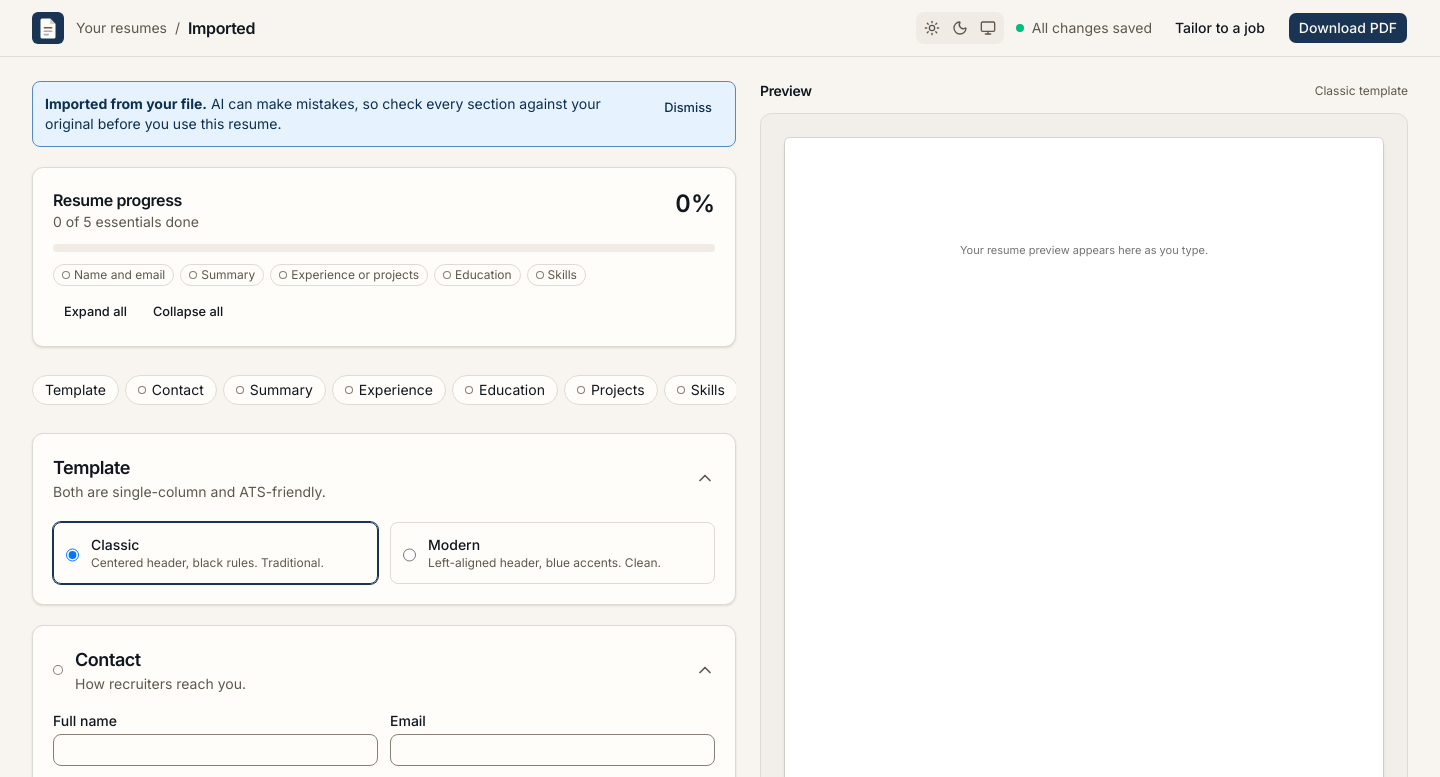
it: editor import notice › tells the user to check an imported resume, and can be dismissed
This screenshot has width=1440, height=777.
Expected: the message with test id "import-notice" shows "Imported from your file", [45, 95, 207, 112]
Expected: the message with test id "import-notice" shows "check every section", [45, 95, 601, 132]
Click the button with aria-label "Dismiss import notice".
click(688, 108)  # box [653, 94, 723, 122]
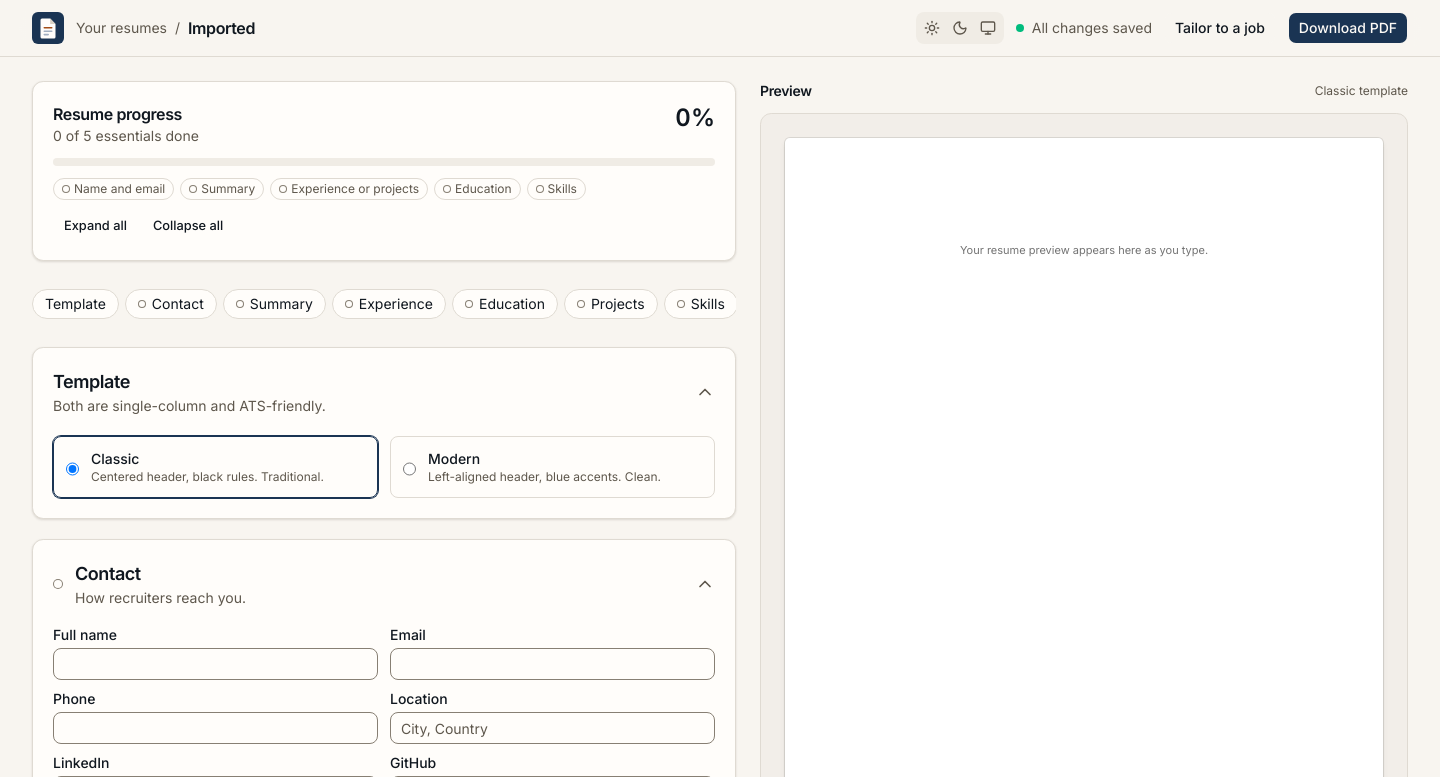
Expected: the message with test id "import-notice" is gone
